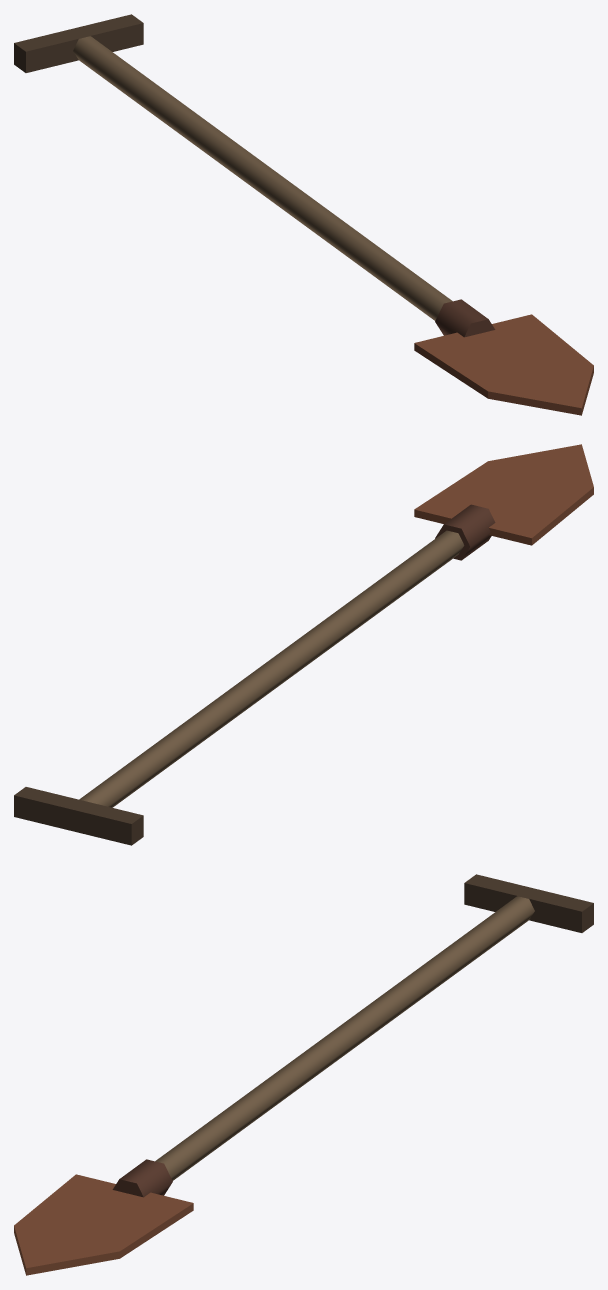
The picture shows the model from 3 angles, top to bottom: view 1: azimuth 30°, elevation 25°; view 2: azimuth 150°, elevation 25°; view 3: azimuth 330°, elevation 25°; orthographic projection.
Parts seen in each view (by area): view 1: raider_tool_shovel; view 2: raider_tool_shovel; view 3: raider_tool_shovel.
Part boxes in pixels (x1,y1,x2,y2): raider_tool_shovel: (14,14,593,415); raider_tool_shovel: (14,444,593,845); raider_tool_shovel: (14,874,593,1275).
Bounding box in the file's own units: 0.2 × 0.052 × 1.5.
